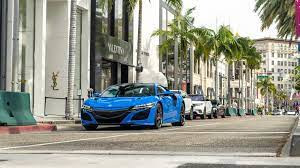car: (80, 82, 186, 129)
